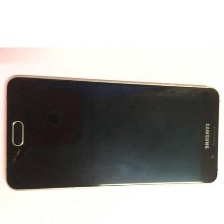phone: (1, 69, 223, 194)
